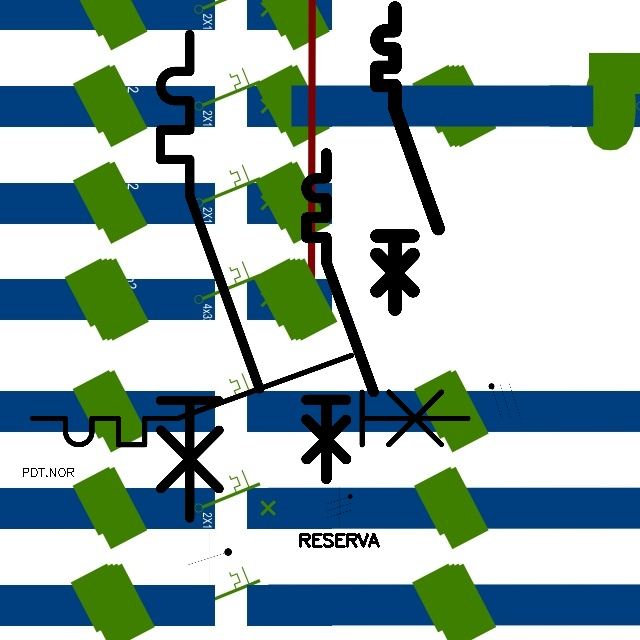interruptor_termomagnetico: (148, 22, 272, 530), (21, 344, 479, 456), (298, 145, 382, 487), (369, 0, 446, 317)
